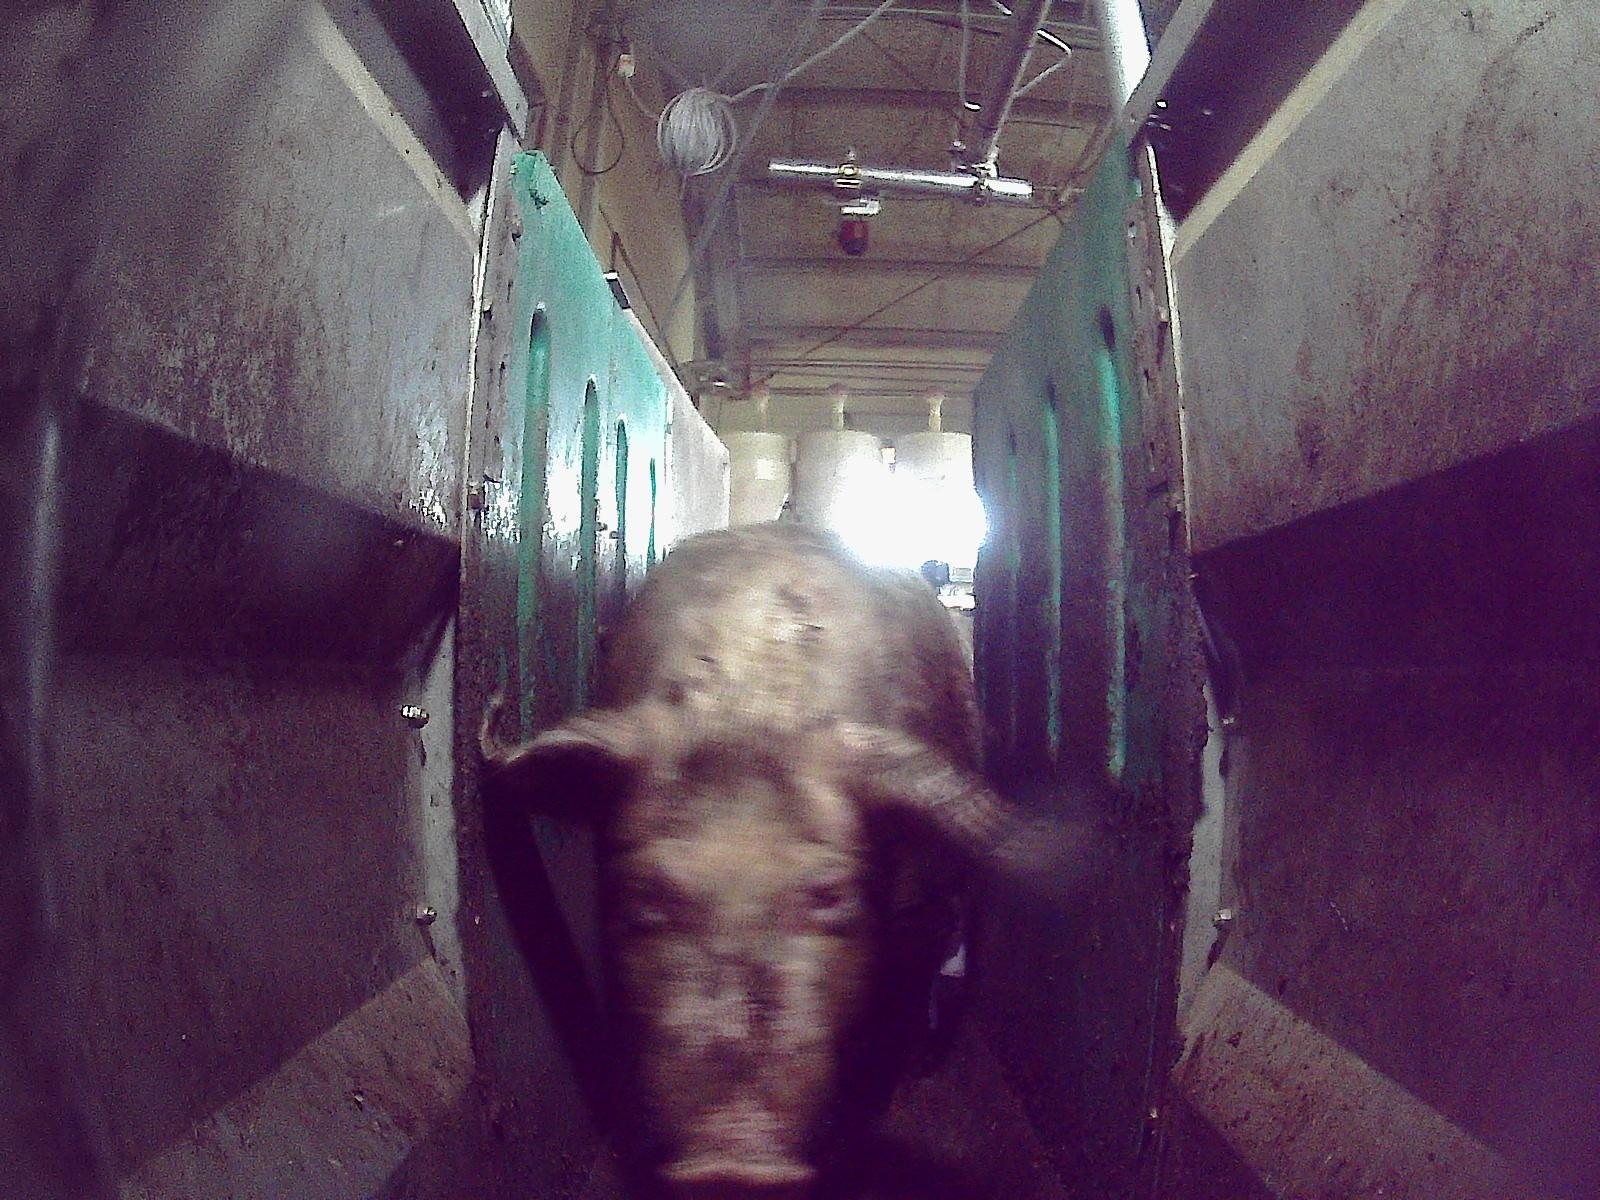Face: (604, 693, 879, 1199)
